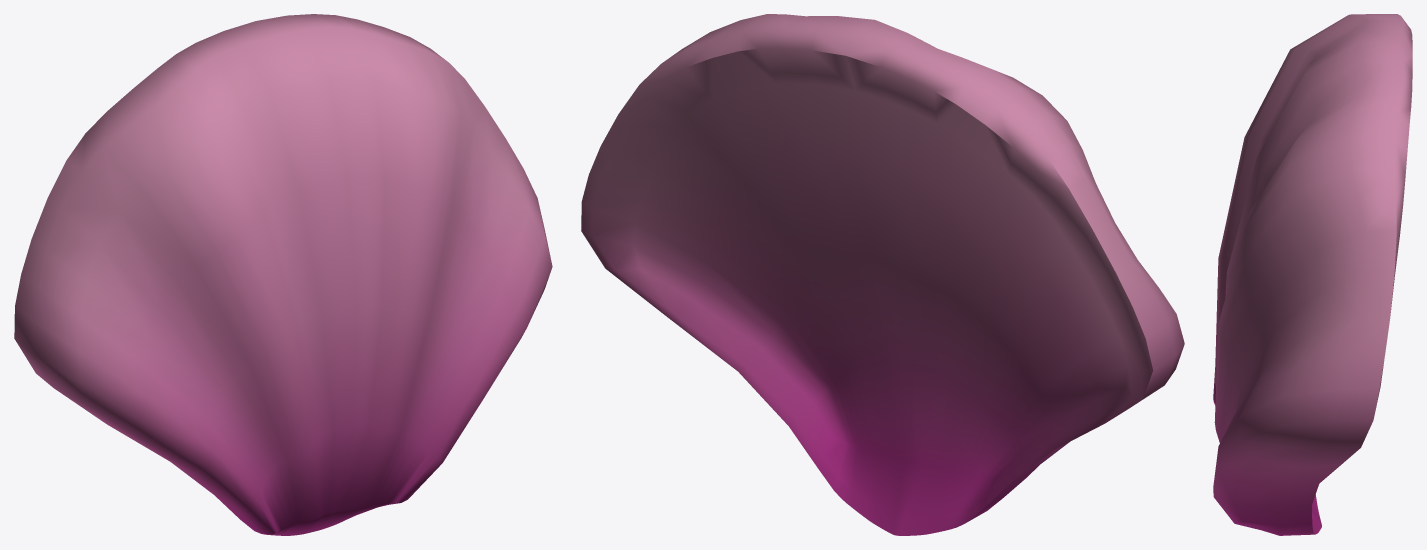
The model's file is Shell.fbx.
3 renders of one model, left to right at view 1: azimuth 30°, elevation 25°; view 2: azimuth 150°, elevation 25°; view 3: azimuth 270°, elevation 25°, orthographic. The views are drawn at different scales.
Parts seen in each view (by area): view 1: Shell; view 2: Shell; view 3: Shell.
Boxes of the visible parts, box(x1,y1,x2,y2) form: Shell: box(14, 14, 552, 535); Shell: box(581, 14, 1184, 535); Shell: box(1213, 14, 1412, 535).
Size of the model in its own units: 235 by 208 by 77.79.
